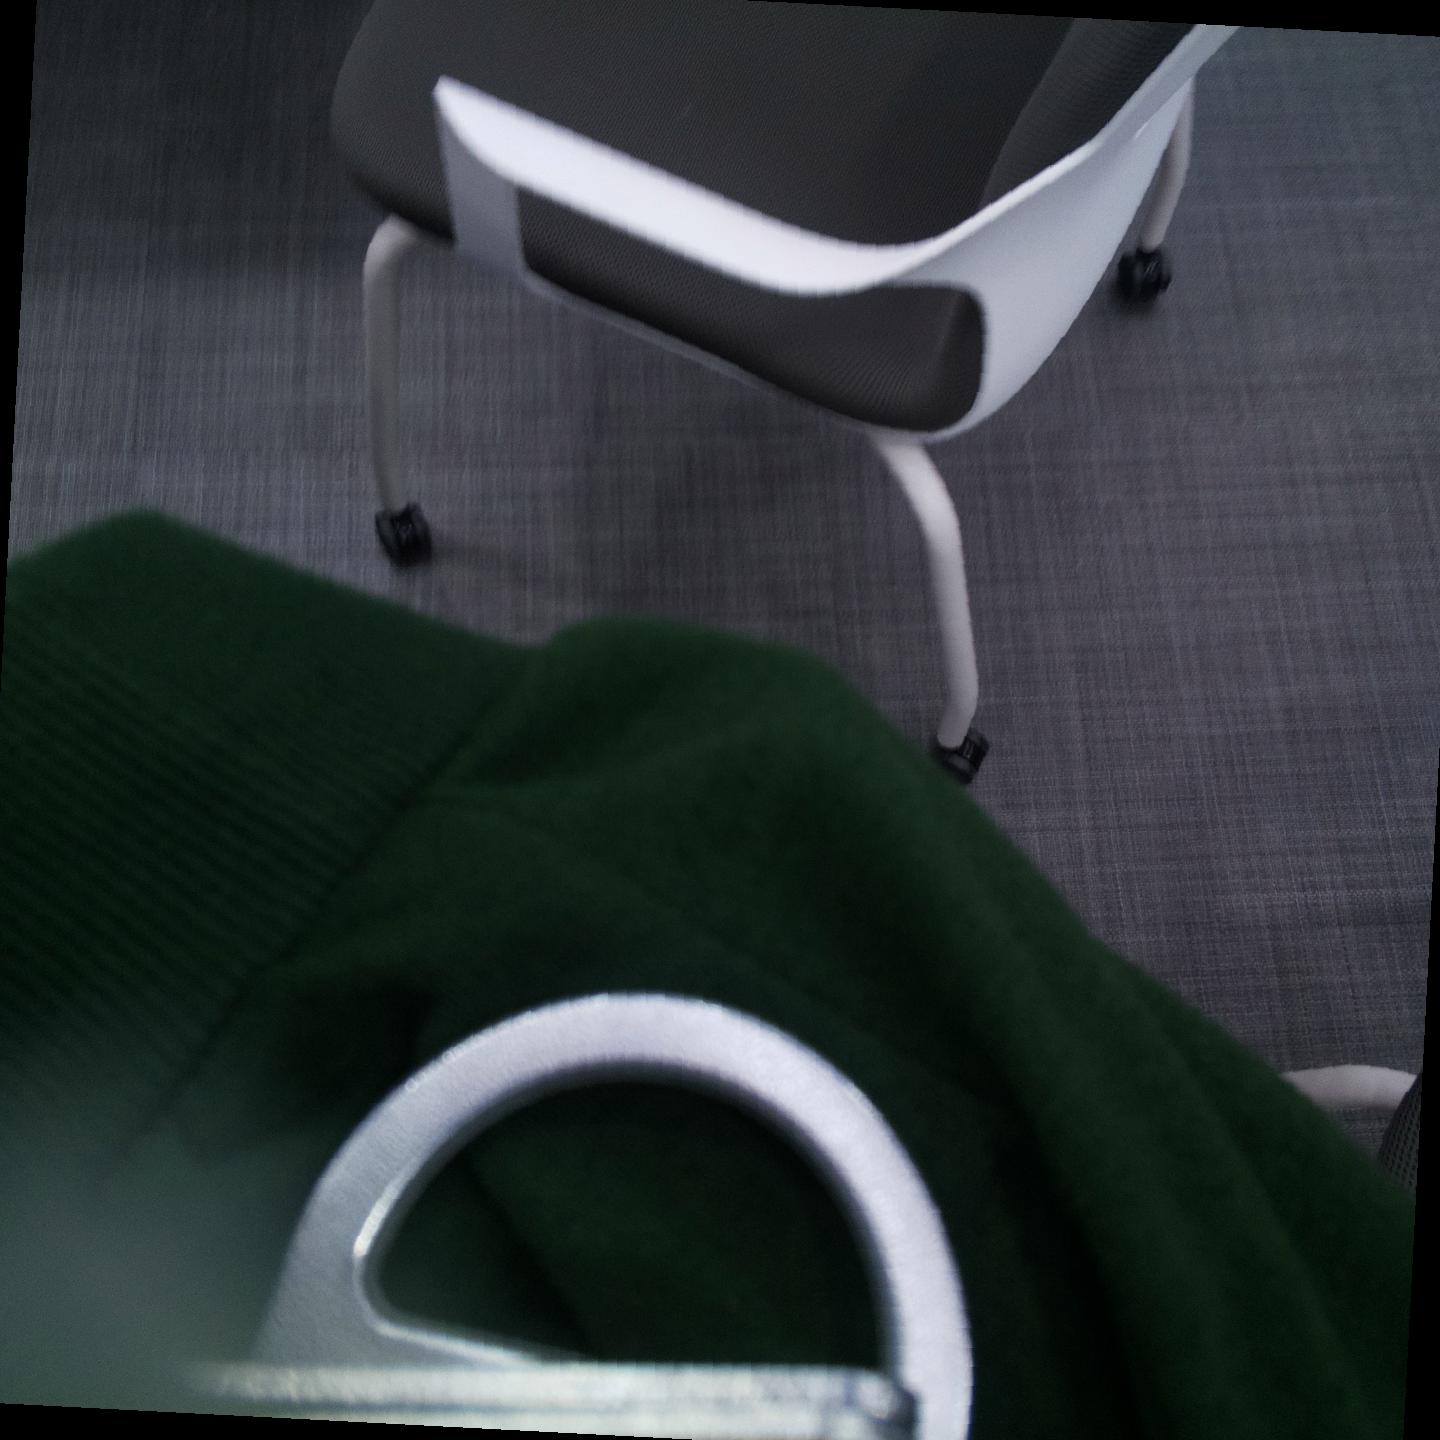UNSUCCESS: (268, 985, 1030, 1390)
